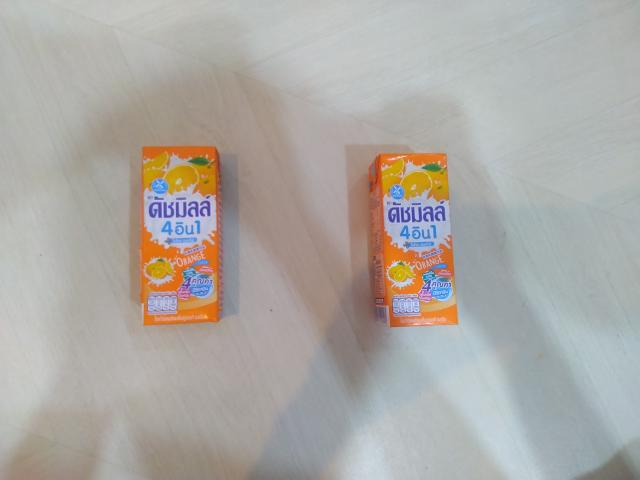drink_box: (362, 144, 468, 334), (132, 140, 233, 331)
